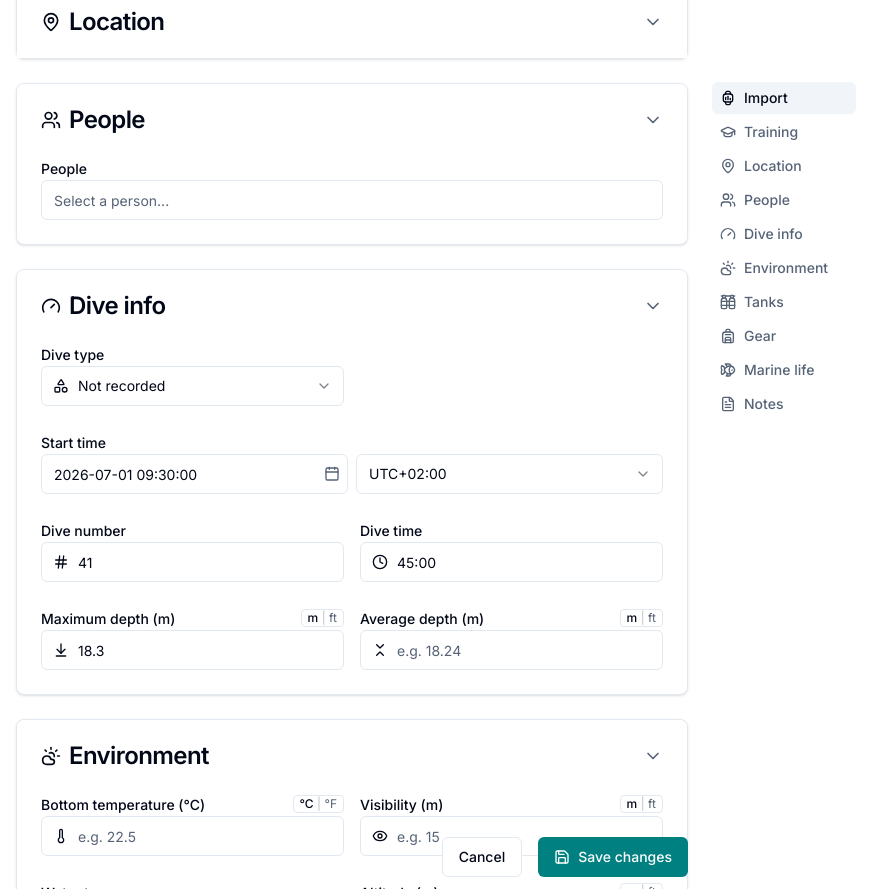
a dive's conditions while the form is open › previews nothing the dive's own fetch left empty, at the inputs it answered
(page scrolled)
Select "UTC+03:00" in the dropdown named "UTC offset". click: (510, 474)
box: top-left (356, 454), bottom-right (663, 494)
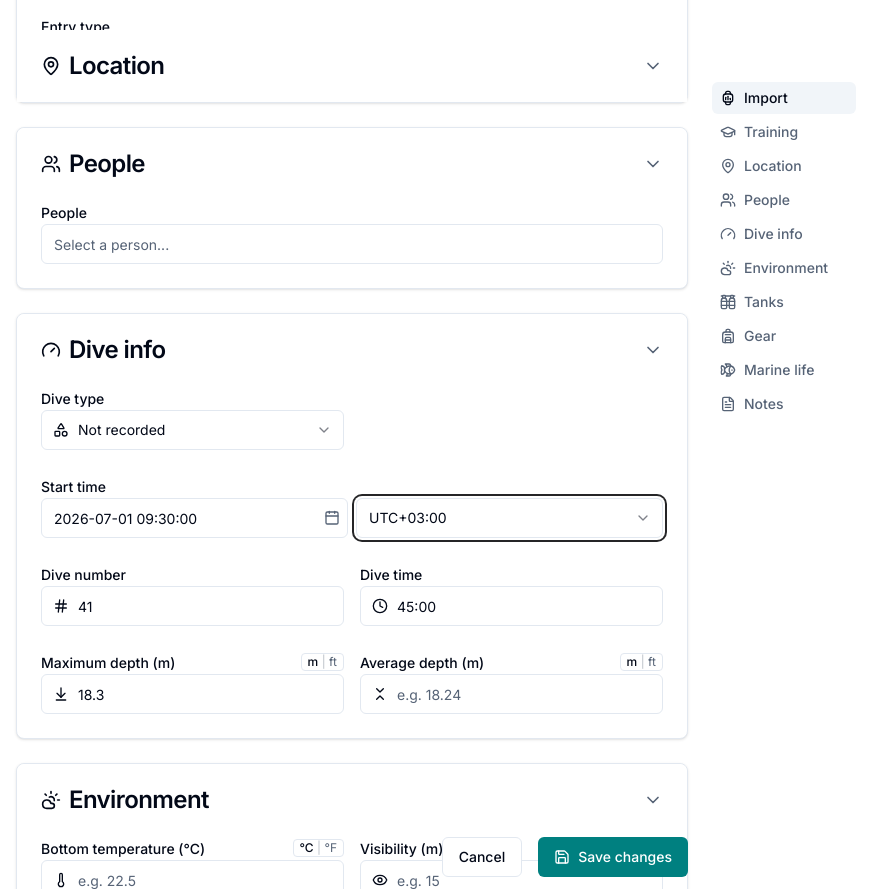
Select "UTC+02:00" in the dropdown named "UTC offset". click: (510, 518)
box: top-left (356, 498), bottom-right (663, 538)
(page scrolled)
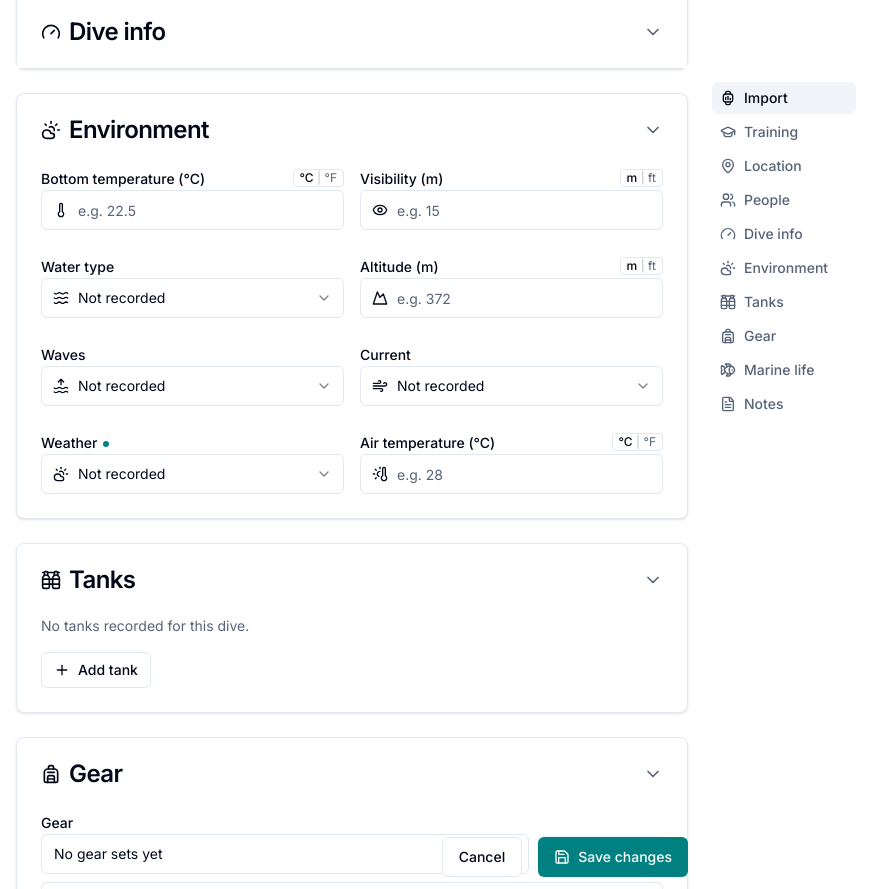
Check: the dropdown labelled "Weather" shows "Not recorded", box top-left (41, 454), bottom-right (344, 494)
